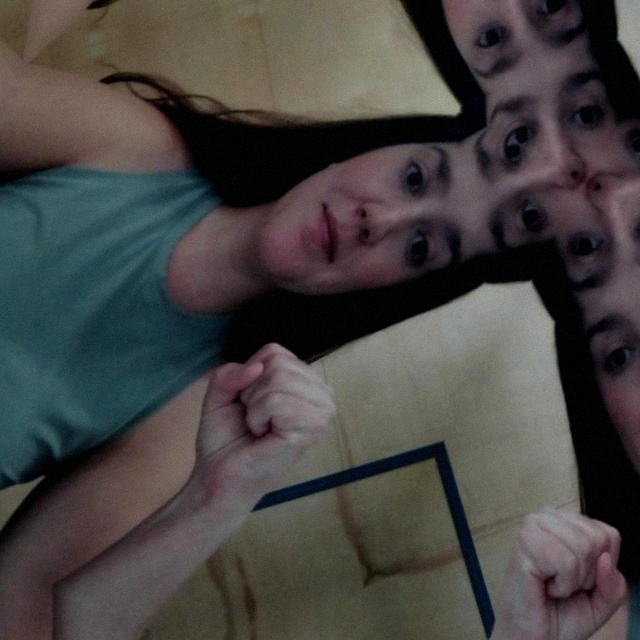Rock: (0, 194, 453, 640)
